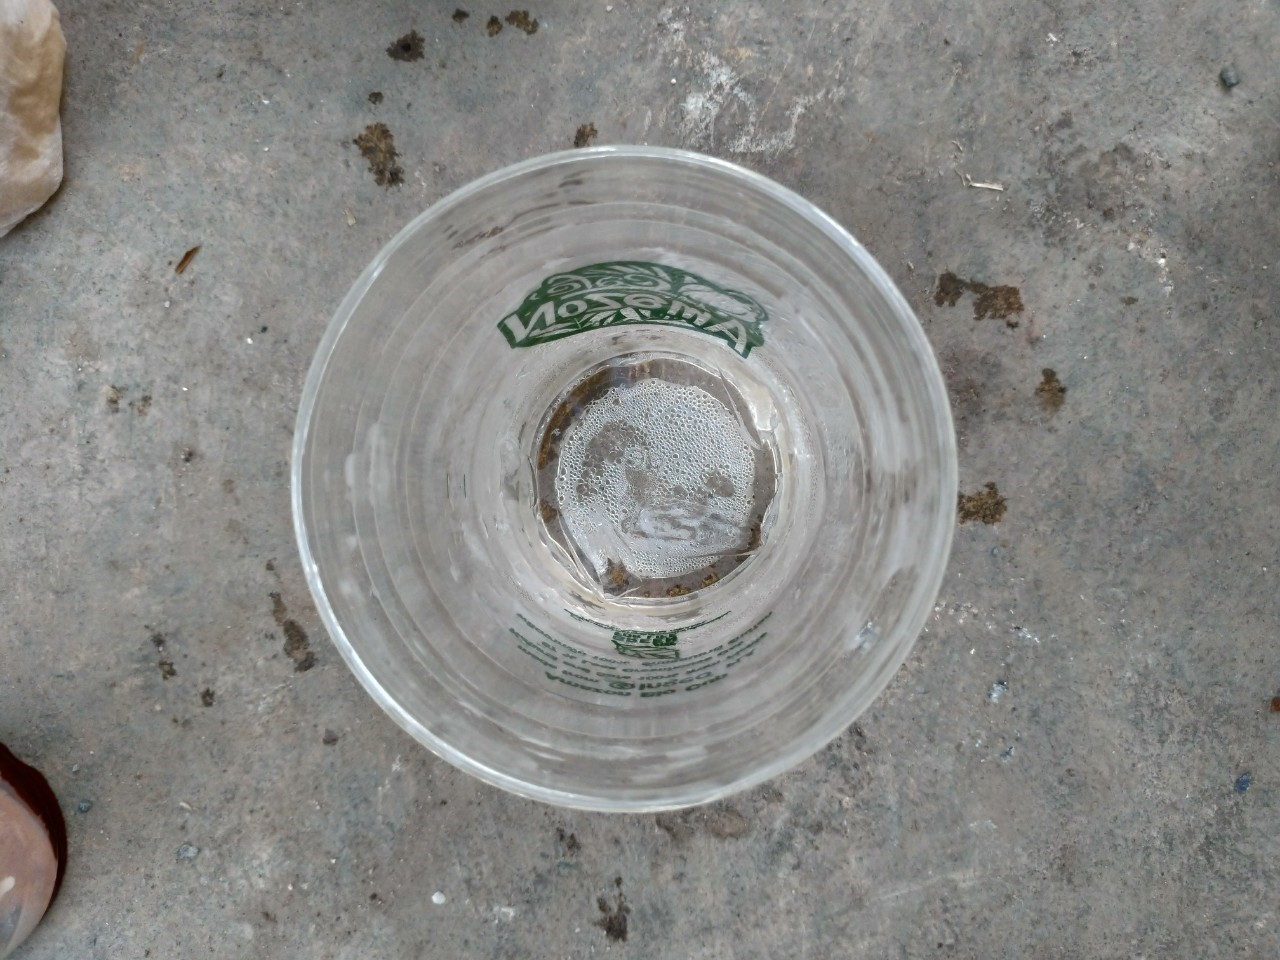PlasticCup: (279, 137, 962, 817)
